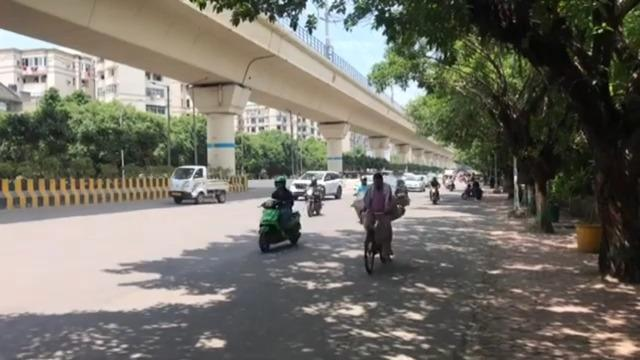Bike: (356, 167, 392, 270), (256, 171, 301, 252), (304, 177, 324, 216), (461, 176, 482, 200), (429, 176, 440, 204)
Car: (288, 170, 343, 200)
Truck: (167, 164, 229, 204)
